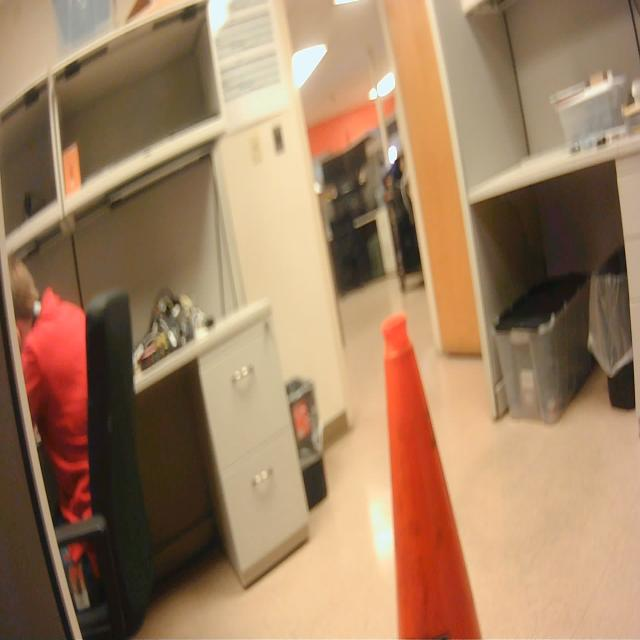traffic cone: (375, 305, 501, 640)
